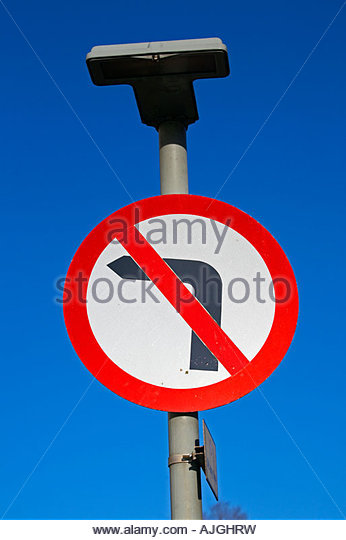No_left_turn: (63, 195, 299, 413)
